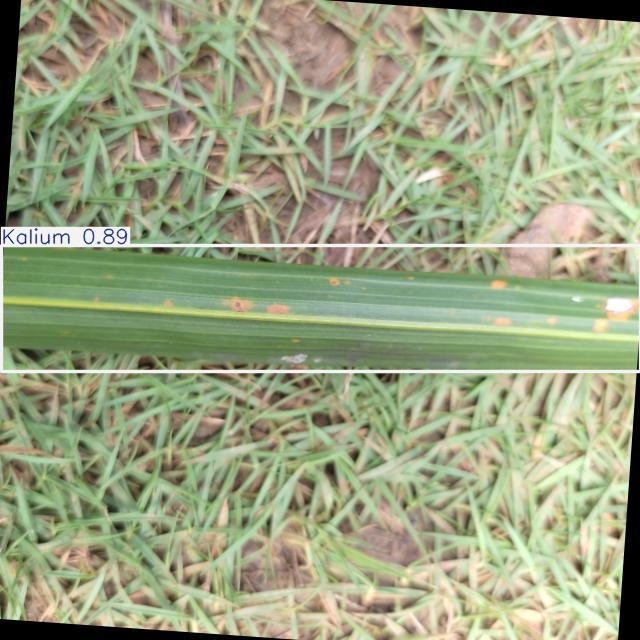Kalium: (2, 245, 640, 372)
